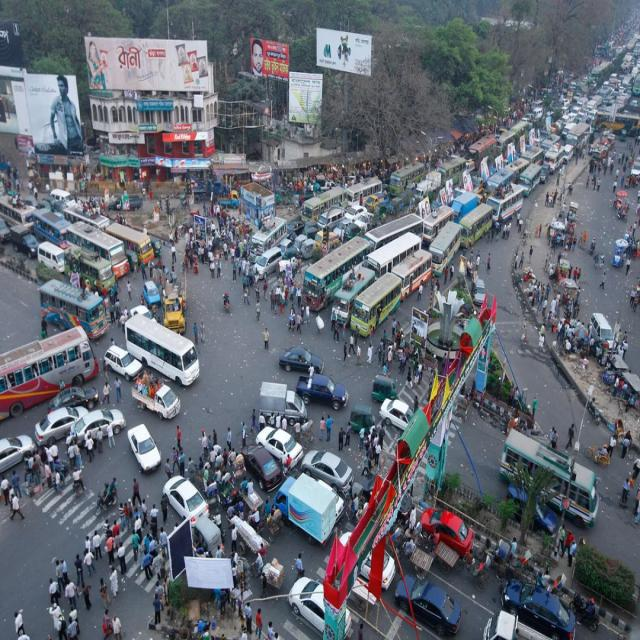car: (396, 572, 463, 631), (288, 577, 355, 634), (421, 494, 476, 555), (305, 442, 354, 489), (166, 470, 208, 518), (296, 374, 350, 407), (76, 406, 123, 443), (128, 427, 164, 475), (31, 407, 78, 443), (137, 379, 180, 418), (100, 345, 144, 381), (260, 427, 303, 462), (244, 451, 282, 490), (0, 424, 29, 475), (278, 344, 325, 374), (380, 392, 415, 428), (253, 246, 283, 280)
